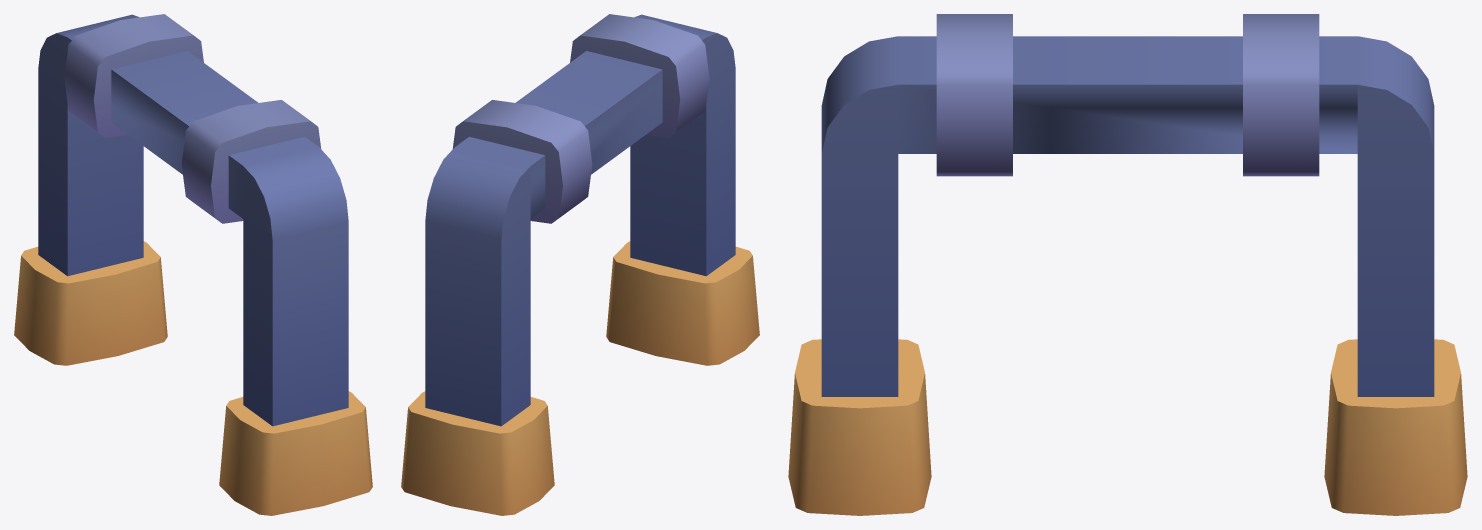
Rendered from F_scanner-high.obj.
3 views of the same model, side by side, from view 1: azimuth 30°, elevation 25°; view 2: azimuth 150°, elevation 25°; view 3: azimuth 270°, elevation 25° (orthographic). The views are drawn at different scales.
Parts seen in each view (by area): view 1: scanner-high; view 2: scanner-high; view 3: scanner-high.
Part boxes in pixels (<box>): scanner-high: <box>14,14,372,515</box>; scanner-high: <box>401,14,759,515</box>; scanner-high: <box>788,14,1467,515</box>.
Bounding box in the file's own units: 0.484 × 1.27 × 1.77.
Materials: 1 (1 with a texture image).
